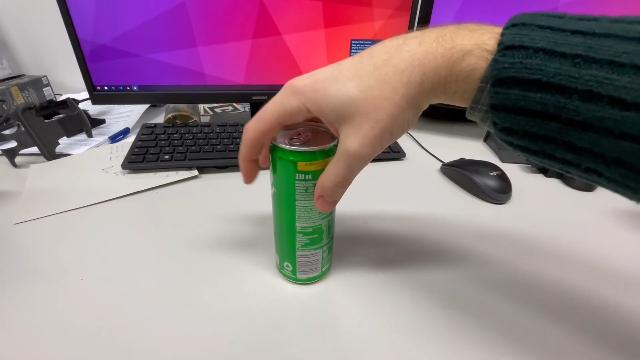Sprite: (266, 116, 342, 288)
